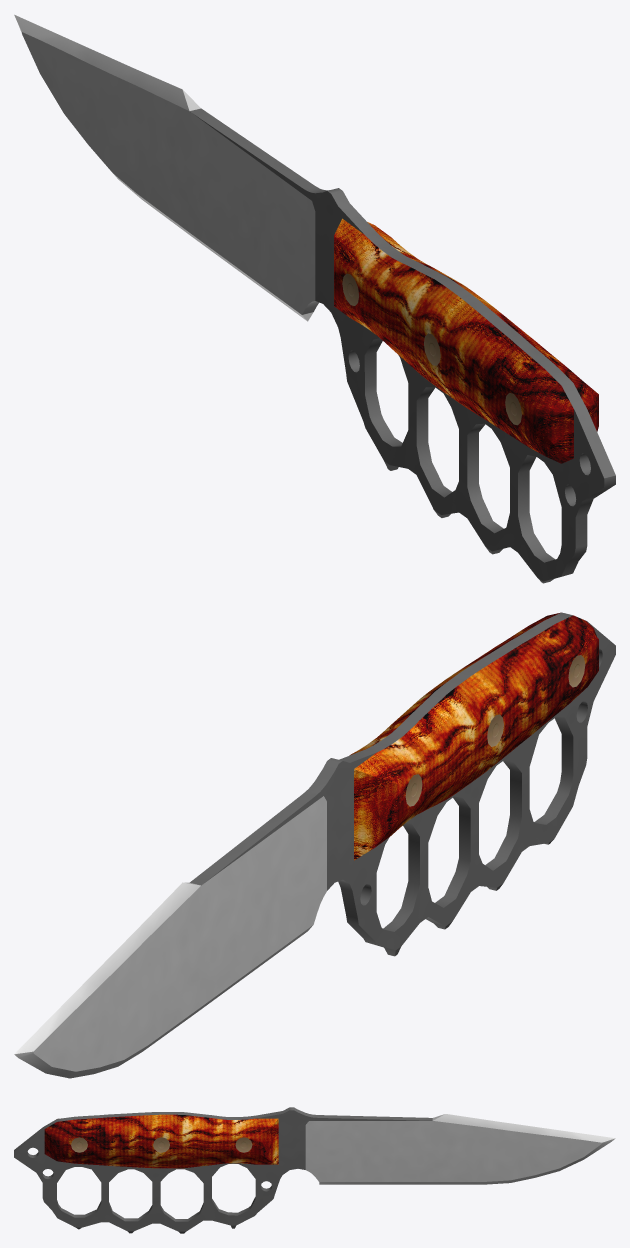
Rendered from knife_3.fbx.
The picture shows the model from 3 angles, top to bottom: view 1: azimuth 30°, elevation 25°; view 2: azimuth 150°, elevation 25°; view 3: azimuth 270°, elevation 25°; orthographic projection. The views are drawn at different scales.
Visible parts, largest first — view 1: Knife3; view 2: Knife3; view 3: Knife3.
Boxes of the visible parts, left/top/right/bottom form: Knife3: left=14, top=14, right=615, bottom=583; Knife3: left=14, top=612, right=615, bottom=1078; Knife3: left=14, top=1107, right=615, bottom=1233.
Bounding box in the file's own units: 2.02 × 7.5 × 32.98.
